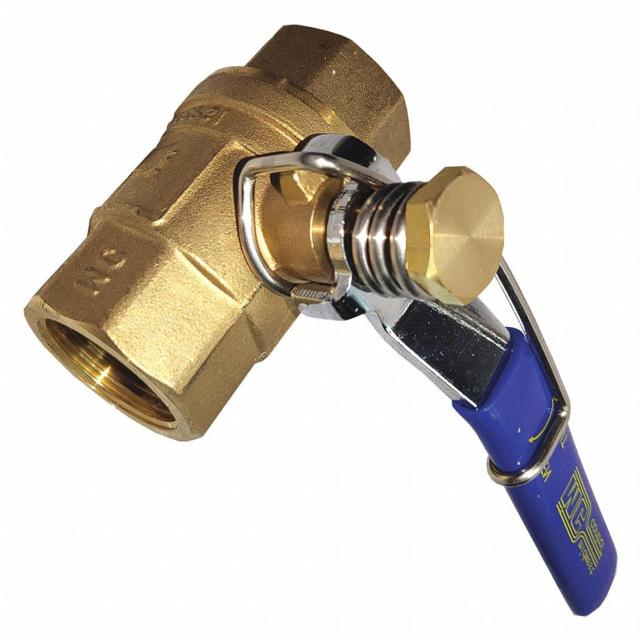closed_valve: (20, 19, 620, 621)
